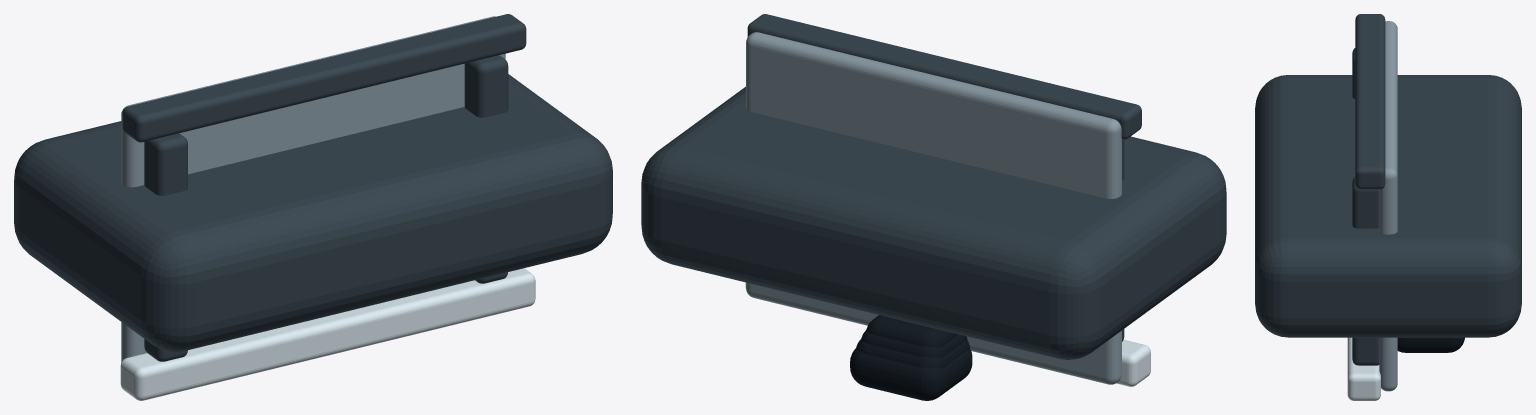
Rendered from body_31.glb.
3 views of the same model, side by side, from view 1: azimuth 30°, elevation 25°; view 2: azimuth 150°, elevation 25°; view 3: azimuth 270°, elevation 25° (orthographic). The views are drawn at different scales.
Parts seen in each view (by area): view 1: asset_mesh__body_1403__reference_body, asset_mesh__body_1434__upper_flange, asset_mesh__body_1434__lower_flange, asset_mesh__body_1434__stamped_sheet, asset_mesh__body_1434__left_reinforcement, asset_mesh__body_1434__right_reinforcement; view 2: asset_mesh__body_1403__reference_body, asset_mesh__body_1434__stamped_sheet, asset_mesh__body_1434__lower_flange, asset_mesh__body_1436__mounting_base, asset_mesh__body_1424__mounting_base, asset_mesh__body_1426__mounting_base, asset_mesh__body_1434__upper_flange, asset_mesh__body_1425__mounting_base; view 3: asset_mesh__body_1403__reference_body, asset_mesh__body_1434__lower_flange, asset_mesh__body_1434__stamped_sheet, asset_mesh__body_1434__right_reinforcement, asset_mesh__body_1434__upper_flange, asset_mesh__body_1436__mounting_base.
Boxes of the visible parts, left/top/right/bottom form: asset_mesh__body_1403__reference_body: left=14, top=74, right=612, bottom=351; asset_mesh__body_1434__upper_flange: left=120, top=268, right=535, bottom=400; asset_mesh__body_1434__lower_flange: left=122, top=14, right=526, bottom=142; asset_mesh__body_1434__stamped_sheet: left=121, top=16, right=505, bottom=361; asset_mesh__body_1434__left_reinforcement: left=144, top=133, right=187, bottom=361; asset_mesh__body_1434__right_reinforcement: left=464, top=55, right=508, bottom=283; asset_mesh__body_1403__reference_body: left=641, top=86, right=1226, bottom=359; asset_mesh__body_1434__stamped_sheet: left=746, top=32, right=1121, bottom=384; asset_mesh__body_1434__lower_flange: left=747, top=14, right=1141, bottom=139; asset_mesh__body_1436__mounting_base: left=850, top=348, right=972, bottom=400; asset_mesh__body_1424__mounting_base: left=866, top=315, right=958, bottom=347; asset_mesh__body_1426__mounting_base: left=856, top=339, right=969, bottom=368; asset_mesh__body_1434__upper_flange: left=745, top=282, right=1150, bottom=386; asset_mesh__body_1425__mounting_base: left=861, top=330, right=967, bottom=357; asset_mesh__body_1403__reference_body: left=1255, top=75, right=1521, bottom=337; asset_mesh__body_1434__lower_flange: left=1355, top=14, right=1385, bottom=189; asset_mesh__body_1434__stamped_sheet: left=1379, top=21, right=1397, bottom=391; asset_mesh__body_1434__right_reinforcement: left=1352, top=177, right=1379, bottom=365; asset_mesh__body_1434__upper_flange: left=1347, top=337, right=1380, bottom=400; asset_mesh__body_1436__mounting_base: left=1397, top=337, right=1464, bottom=352.
Bounding box in the file's own units: 1.47 × 0.9077 × 0.882.
